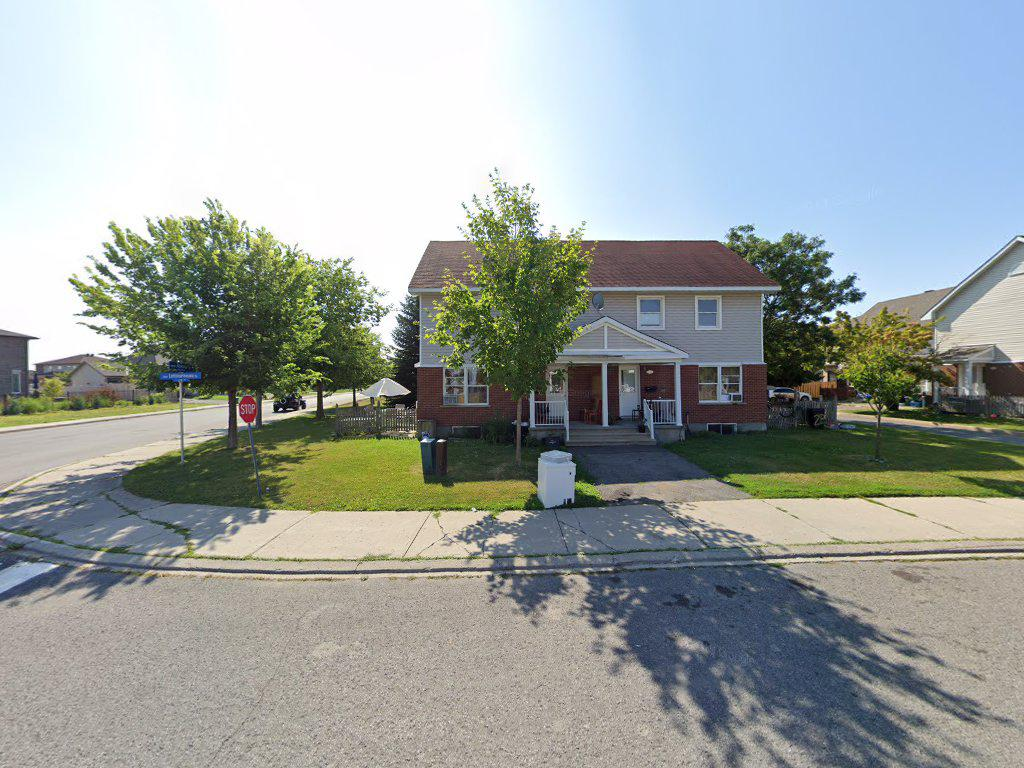trunk: (223, 384, 242, 452), (512, 400, 529, 470)
